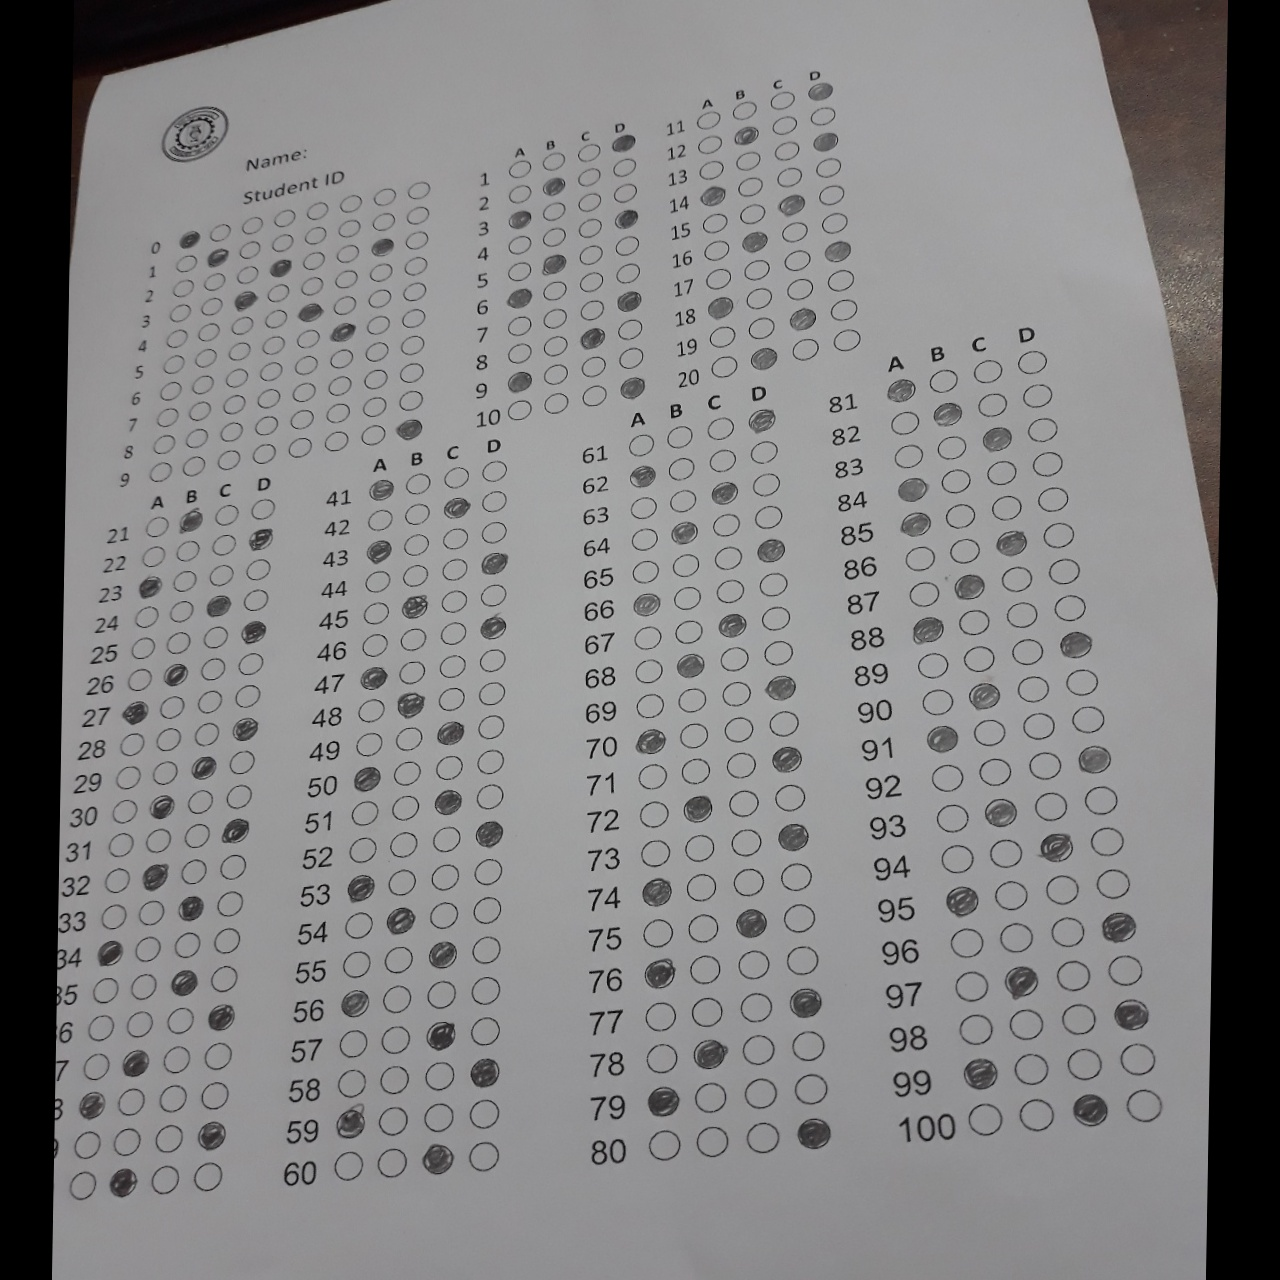not-c: (1126, 1088, 1162, 1122), (1019, 1097, 1054, 1131), (958, 1012, 993, 1046), (968, 1099, 1003, 1133), (1062, 999, 1096, 1033), (1068, 1047, 1102, 1081), (1007, 1007, 1041, 1041), (745, 1121, 779, 1155), (693, 1080, 727, 1114), (695, 1124, 729, 1158), (1119, 1042, 1155, 1075), (935, 801, 969, 833), (940, 840, 973, 874), (1107, 953, 1141, 986), (1015, 1051, 1048, 1085), (744, 1076, 777, 1110), (647, 1126, 680, 1160), (377, 1021, 411, 1054), (1057, 958, 1090, 990), (425, 1058, 458, 1091), (336, 1024, 369, 1057), (336, 1067, 369, 1099), (420, 1099, 452, 1132), (999, 921, 1033, 953), (949, 925, 983, 956), (377, 1062, 411, 1094), (375, 1146, 409, 1178), (333, 1148, 367, 1179), (72, 1128, 102, 1163), (67, 1167, 97, 1203), (1053, 591, 1085, 622), (1005, 597, 1037, 628), (978, 755, 1010, 787), (930, 761, 962, 792), (989, 837, 1022, 869), (993, 878, 1026, 910), (645, 999, 676, 1032), (646, 1042, 678, 1075), (376, 1107, 409, 1138), (903, 543, 937, 573), (954, 969, 988, 1000), (467, 1141, 501, 1171), (1032, 447, 1063, 478), (1036, 483, 1068, 515), (927, 365, 959, 396), (1017, 672, 1049, 703), (920, 685, 952, 716), (685, 870, 716, 901), (779, 860, 811, 892), (741, 989, 772, 1021), (795, 1071, 826, 1103), (1017, 346, 1050, 376), (972, 354, 1005, 384), (999, 564, 1032, 594), (944, 499, 976, 530), (890, 408, 922, 438), (1065, 665, 1098, 695), (956, 605, 989, 635), (973, 715, 1006, 745), (915, 648, 948, 679), (1046, 874, 1078, 905), (1051, 915, 1084, 946), (737, 948, 768, 981), (688, 910, 719, 942), (642, 915, 673, 948), (692, 994, 722, 1027), (743, 1032, 774, 1064), (792, 1029, 823, 1062), (465, 1099, 498, 1130), (1022, 380, 1054, 410), (1027, 413, 1058, 443), (1048, 556, 1080, 586), (978, 388, 1009, 418), (986, 456, 1017, 486), (989, 492, 1021, 523), (939, 464, 971, 495), (893, 441, 925, 471), (906, 577, 938, 607), (1012, 635, 1043, 666), (964, 642, 995, 673), (1085, 783, 1117, 813), (1034, 790, 1065, 821), (733, 866, 764, 897), (689, 953, 720, 985), (1090, 826, 1124, 855), (731, 828, 762, 858), (783, 903, 813, 933), (787, 944, 817, 974), (428, 899, 458, 930), (1042, 520, 1074, 550), (937, 431, 968, 461), (948, 535, 980, 564), (1071, 703, 1103, 733), (1023, 709, 1055, 738), (1029, 750, 1061, 779), (1096, 867, 1128, 897), (748, 437, 779, 467), (155, 1122, 184, 1153), (200, 1080, 229, 1112), (475, 747, 505, 776), (382, 942, 411, 973), (470, 974, 499, 1005), (165, 1006, 195, 1036), (204, 1039, 233, 1069), (760, 602, 791, 631), (706, 413, 737, 441), (707, 445, 738, 474), (672, 584, 703, 612), (195, 1160, 223, 1192), (136, 896, 164, 927), (151, 756, 179, 788), (683, 832, 713, 862), (387, 866, 416, 896), (471, 1016, 501, 1046), (751, 470, 782, 498), (663, 422, 694, 450), (665, 452, 695, 481), (668, 485, 699, 513), (672, 550, 702, 578), (629, 525, 660, 553), (762, 638, 792, 666), (472, 855, 501, 885), (470, 935, 501, 964), (345, 912, 375, 940), (158, 1083, 186, 1114), (132, 933, 161, 964), (144, 825, 172, 856), (156, 693, 186, 721), (672, 617, 703, 644), (629, 558, 661, 585), (728, 788, 760, 815), (149, 1164, 176, 1196), (117, 1085, 144, 1117), (628, 492, 658, 520), (717, 644, 747, 672), (348, 835, 377, 863), (433, 824, 461, 853), (434, 753, 463, 781), (477, 712, 506, 740), (476, 781, 505, 809), (383, 985, 413, 1013), (425, 979, 455, 1007), (754, 503, 784, 530), (709, 511, 740, 538), (713, 544, 743, 571), (713, 577, 743, 604), (625, 431, 655, 458), (633, 624, 663, 651), (633, 658, 663, 685), (636, 762, 667, 789), (680, 756, 710, 783), (679, 722, 709, 749), (722, 680, 753, 707), (727, 750, 757, 777), (767, 708, 797, 735), (775, 783, 805, 810), (639, 799, 669, 826), (640, 839, 670, 866), (163, 1046, 190, 1076), (131, 968, 158, 999), (481, 486, 509, 515), (431, 862, 459, 890), (472, 894, 501, 922), (343, 949, 372, 978), (757, 570, 787, 597), (634, 693, 663, 720), (678, 686, 707, 713), (723, 715, 753, 742), (113, 1126, 139, 1156), (125, 1009, 152, 1039), (154, 726, 183, 753), (141, 512, 170, 539), (141, 542, 170, 568), (440, 588, 468, 615), (360, 631, 388, 658), (395, 726, 423, 753), (91, 975, 120, 1002), (84, 1051, 111, 1080), (478, 583, 508, 608), (436, 655, 465, 681), (355, 696, 384, 722), (404, 501, 431, 527), (440, 619, 467, 646), (402, 561, 429, 588), (392, 794, 418, 821), (352, 799, 379, 826), (184, 821, 211, 847), (172, 930, 199, 956), (132, 602, 159, 629), (100, 903, 127, 930), (442, 464, 470, 490), (404, 471, 433, 497), (399, 627, 427, 653), (396, 660, 424, 686), (366, 505, 394, 531), (363, 568, 392, 594), (393, 758, 421, 784), (390, 832, 418, 858), (224, 783, 252, 809), (217, 853, 245, 879), (213, 927, 241, 953), (209, 965, 237, 990), (130, 636, 158, 662), (110, 797, 138, 823), (88, 1013, 114, 1041), (769, 114, 799, 137), (829, 298, 859, 321), (697, 210, 728, 233), (481, 457, 508, 483), (481, 517, 508, 543), (477, 681, 504, 707), (440, 526, 467, 552), (440, 554, 467, 580), (356, 730, 383, 756), (193, 721, 220, 747), (188, 788, 215, 813), (179, 858, 206, 884), (216, 890, 243, 915), (120, 731, 147, 757), (107, 831, 134, 857), (436, 688, 464, 713), (402, 535, 430, 559), (207, 563, 236, 587), (237, 652, 265, 676), (124, 668, 152, 693), (116, 764, 144, 789), (740, 257, 769, 280), (697, 157, 727, 181), (702, 238, 731, 261), (481, 647, 508, 672), (362, 602, 389, 627), (213, 502, 240, 526), (103, 867, 130, 892), (768, 89, 796, 113), (785, 277, 813, 300), (737, 173, 765, 197), (744, 286, 772, 309), (704, 266, 733, 290), (710, 354, 738, 377), (246, 558, 274, 581), (210, 532, 238, 556), (171, 567, 199, 591), (198, 655, 226, 679), (195, 688, 223, 712), (234, 239, 263, 263), (181, 454, 209, 477), (776, 165, 805, 188), (782, 248, 811, 271), (745, 316, 775, 339), (696, 134, 726, 156), (708, 325, 737, 347), (790, 338, 819, 360), (287, 409, 316, 431), (165, 277, 195, 299), (543, 333, 568, 358), (540, 224, 566, 248), (508, 313, 533, 338), (542, 362, 568, 386), (542, 279, 568, 302), (248, 497, 275, 520), (169, 599, 196, 622), (203, 625, 230, 648), (234, 685, 261, 708), (165, 631, 192, 654), (263, 306, 290, 329), (219, 418, 246, 442), (779, 220, 808, 243), (731, 97, 760, 120), (735, 149, 763, 171), (738, 202, 767, 224), (694, 108, 722, 130), (173, 539, 202, 561), (320, 429, 348, 451), (302, 224, 331, 246), (300, 250, 328, 272), (290, 381, 318, 403), (271, 206, 299, 229), (259, 333, 287, 355), (257, 360, 285, 382), (254, 387, 282, 409), (251, 413, 279, 435), (285, 436, 313, 458), (222, 366, 250, 388), (224, 339, 252, 361), (231, 263, 259, 285), (189, 373, 217, 395), (185, 400, 213, 422), (148, 434, 176, 456), (157, 377, 185, 400), (163, 301, 191, 324), (171, 251, 199, 273), (831, 329, 860, 350), (294, 328, 324, 349), (195, 319, 224, 340), (540, 306, 565, 331), (611, 155, 636, 178), (540, 198, 566, 222), (542, 148, 567, 171), (506, 157, 532, 181), (508, 181, 533, 204), (505, 259, 531, 282), (506, 341, 532, 365), (508, 399, 533, 422), (399, 361, 424, 384), (365, 367, 390, 390), (772, 138, 799, 161), (241, 588, 268, 611), (229, 750, 256, 772), (297, 274, 324, 297), (292, 354, 319, 376), (250, 443, 277, 465), (215, 448, 241, 470), (230, 313, 257, 335), (238, 213, 265, 236), (197, 294, 224, 316), (155, 406, 182, 428), (161, 327, 188, 349), (826, 268, 855, 290), (302, 200, 331, 222), (264, 281, 292, 302), (220, 393, 248, 414), (191, 348, 219, 369), (145, 459, 173, 481), (159, 353, 188, 374), (581, 354, 606, 377), (508, 233, 532, 257), (406, 203, 430, 226), (370, 211, 395, 234), (339, 216, 363, 239), (400, 333, 424, 356), (367, 313, 392, 336), (367, 286, 392, 309), (617, 318, 642, 340), (406, 178, 431, 200), (372, 185, 397, 207), (399, 308, 425, 329), (268, 232, 295, 253), (205, 220, 232, 241), (200, 271, 227, 292), (183, 428, 210, 449), (809, 105, 837, 125), (615, 263, 640, 285), (618, 347, 642, 369), (577, 139, 601, 162), (576, 191, 600, 213), (578, 243, 602, 265), (578, 270, 602, 292), (583, 383, 607, 406), (340, 191, 365, 213), (403, 229, 428, 251), (401, 280, 425, 302), (399, 389, 423, 411), (328, 347, 353, 369), (327, 374, 352, 396), (326, 401, 350, 423), (577, 217, 602, 238), (543, 392, 568, 413), (333, 268, 359, 290), (331, 295, 356, 316), (817, 184, 844, 204), (821, 212, 847, 232), (580, 298, 602, 321), (406, 253, 429, 275), (361, 395, 384, 417), (335, 241, 359, 264), (612, 181, 636, 202), (614, 234, 639, 256), (577, 165, 601, 186), (360, 423, 384, 444), (813, 157, 840, 176), (363, 341, 387, 362), (368, 261, 392, 282)
taken-c: (962, 1055, 1000, 1089), (967, 678, 1005, 712), (1073, 1092, 1109, 1126), (1112, 996, 1149, 1030), (1005, 962, 1041, 996), (1101, 911, 1137, 945), (1036, 829, 1073, 863), (942, 881, 979, 915), (981, 794, 1017, 828), (1076, 742, 1112, 776), (1057, 627, 1094, 661), (949, 570, 986, 604), (105, 1164, 139, 1199), (924, 722, 960, 754), (93, 937, 125, 971), (925, 721, 960, 753), (885, 374, 920, 406), (796, 1116, 829, 1149), (195, 1118, 226, 1152), (120, 1044, 151, 1078), (168, 965, 199, 999), (899, 509, 933, 540), (896, 474, 930, 505), (993, 527, 1028, 558), (467, 1056, 499, 1088), (422, 1141, 454, 1173), (77, 1087, 108, 1121), (207, 1001, 238, 1035), (693, 1039, 727, 1069), (931, 396, 965, 427), (910, 615, 945, 645), (979, 424, 1014, 454), (644, 956, 675, 988), (334, 1107, 366, 1138), (788, 987, 821, 1017), (648, 1085, 681, 1116), (159, 660, 191, 690), (231, 713, 261, 743), (237, 617, 267, 647), (136, 571, 166, 601), (433, 787, 463, 817), (343, 872, 374, 903), (427, 938, 457, 968), (173, 892, 205, 921), (777, 821, 806, 852), (365, 474, 396, 503), (359, 663, 390, 693), (435, 719, 467, 748), (352, 764, 383, 794), (340, 988, 372, 1017), (425, 1020, 455, 1051), (189, 753, 219, 782), (203, 591, 233, 620), (177, 506, 207, 536), (245, 525, 275, 554), (682, 794, 712, 824), (736, 906, 765, 937), (641, 877, 670, 907), (399, 592, 429, 621), (395, 689, 425, 719), (474, 818, 504, 847), (219, 815, 248, 844), (771, 743, 801, 772), (365, 535, 394, 564), (478, 612, 508, 641), (384, 904, 414, 933), (141, 862, 171, 890), (145, 792, 176, 821), (121, 697, 151, 726), (627, 463, 658, 491), (441, 492, 471, 520), (669, 519, 699, 547), (709, 477, 738, 505), (631, 590, 660, 618), (719, 610, 747, 639), (765, 672, 795, 700), (478, 549, 508, 577), (757, 536, 785, 564), (636, 727, 665, 755), (745, 406, 775, 433), (676, 651, 706, 678), (505, 207, 535, 233), (505, 285, 532, 312), (540, 250, 567, 277), (395, 416, 423, 442), (505, 368, 533, 394), (750, 346, 777, 372), (741, 230, 768, 256), (699, 182, 726, 207), (806, 79, 833, 104), (329, 320, 358, 345), (812, 127, 838, 152), (823, 239, 850, 264), (778, 191, 805, 216), (733, 122, 760, 147), (297, 300, 325, 324), (790, 306, 816, 331), (233, 288, 260, 312), (579, 327, 604, 350), (620, 375, 645, 399), (540, 173, 566, 196), (610, 132, 635, 155), (370, 236, 394, 259), (615, 291, 641, 312), (206, 246, 230, 268), (268, 257, 292, 279), (614, 207, 638, 230), (708, 297, 731, 319), (176, 227, 200, 248)
